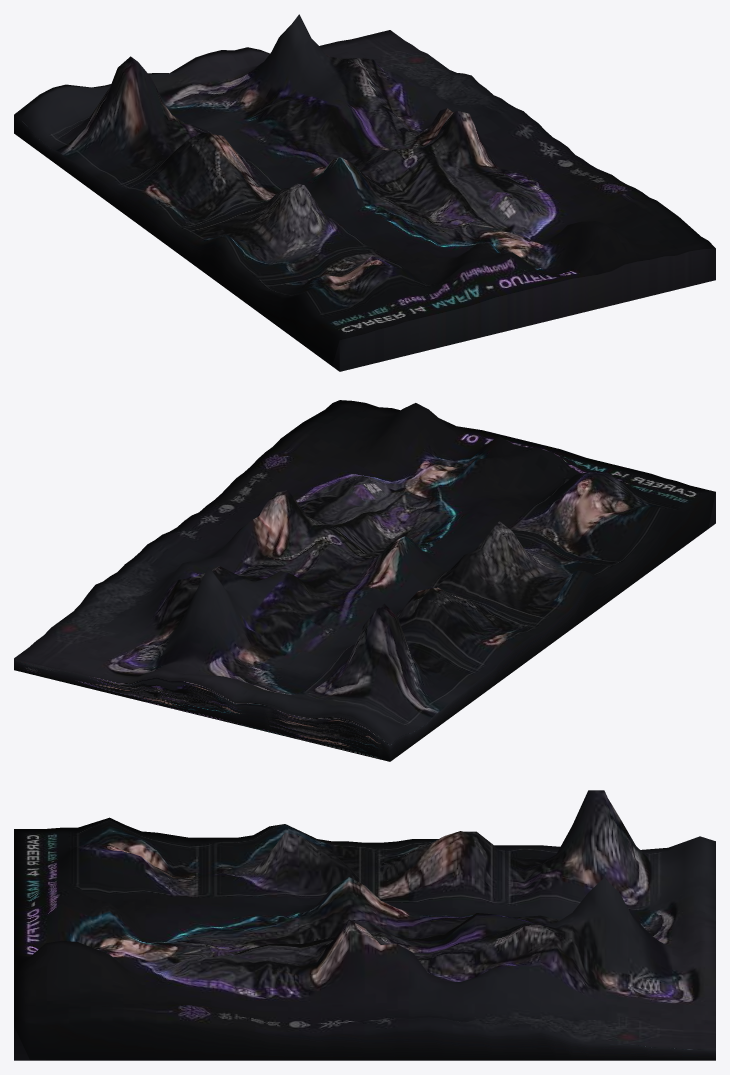
The model's file is CAREER_14_Outfit_01_Entry.glb.
The picture shows the model from 3 angles, top to bottom: view 1: azimuth 30°, elevation 25°; view 2: azimuth 150°, elevation 25°; view 3: azimuth 270°, elevation 25°; orthographic projection. The views are drawn at different scales.
Parts seen in each view (by area): view 1: CAREER_14_Outfit_01_Entry; view 2: CAREER_14_Outfit_01_Entry; view 3: CAREER_14_Outfit_01_Entry.
Boxes of the visible parts, x1,y1,x2,y2 form: CAREER_14_Outfit_01_Entry: (14, 14, 715, 371); CAREER_14_Outfit_01_Entry: (14, 400, 715, 761); CAREER_14_Outfit_01_Entry: (14, 790, 715, 1060).
Size of the model in its own units: 2 by 0.51 by 3.
1 material, 1 textured.
